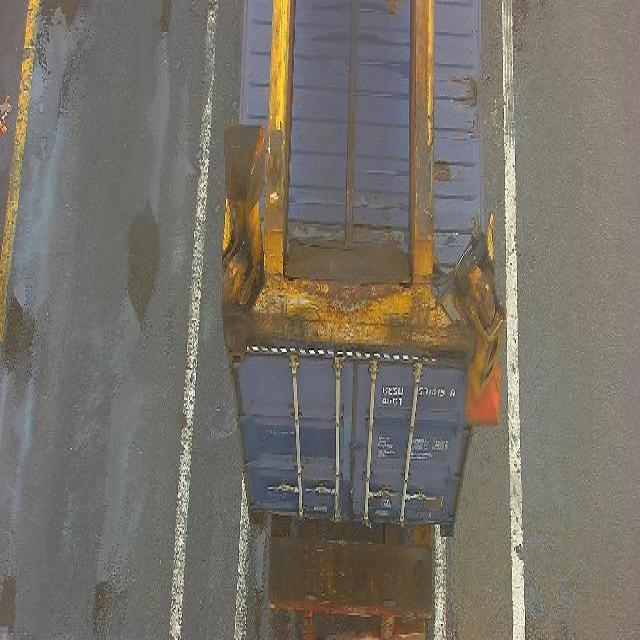ISO: (382, 394, 406, 410)
container_number: (382, 382, 457, 400)
